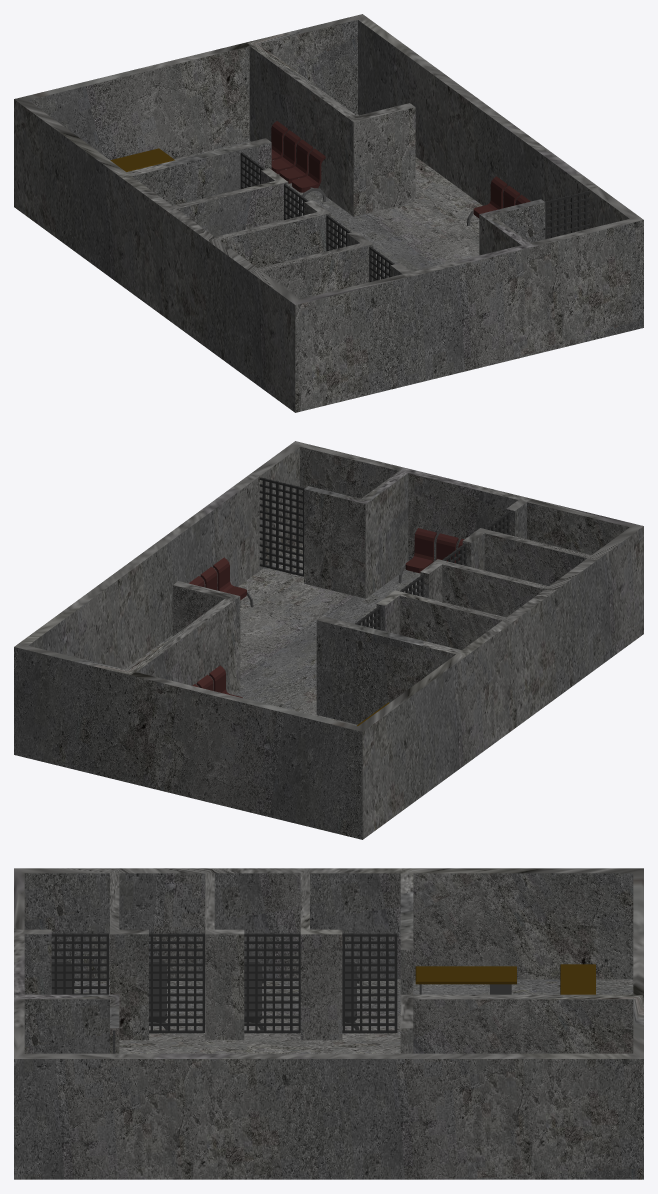
The model's file is CELL ROOM DONE.fbx.
3 renders of one model, top to bottom at view 1: azimuth 30°, elevation 25°; view 2: azimuth 150°, elevation 25°; view 3: azimuth 270°, elevation 25°, orthographic. The views are drawn at different scales.
Parts seen in each view (by area): view 1: pCube79; view 2: pCube79; view 3: pCube79.
Part boxes in pixels (box(x1,y1,x2,y2)): pCube79: box(14, 14, 643, 412); pCube79: box(14, 441, 643, 839); pCube79: box(14, 868, 643, 1179).
Bounding box in the file's own units: 1342 × 397 × 1875.
Materials: 9 (1 with a texture image).
